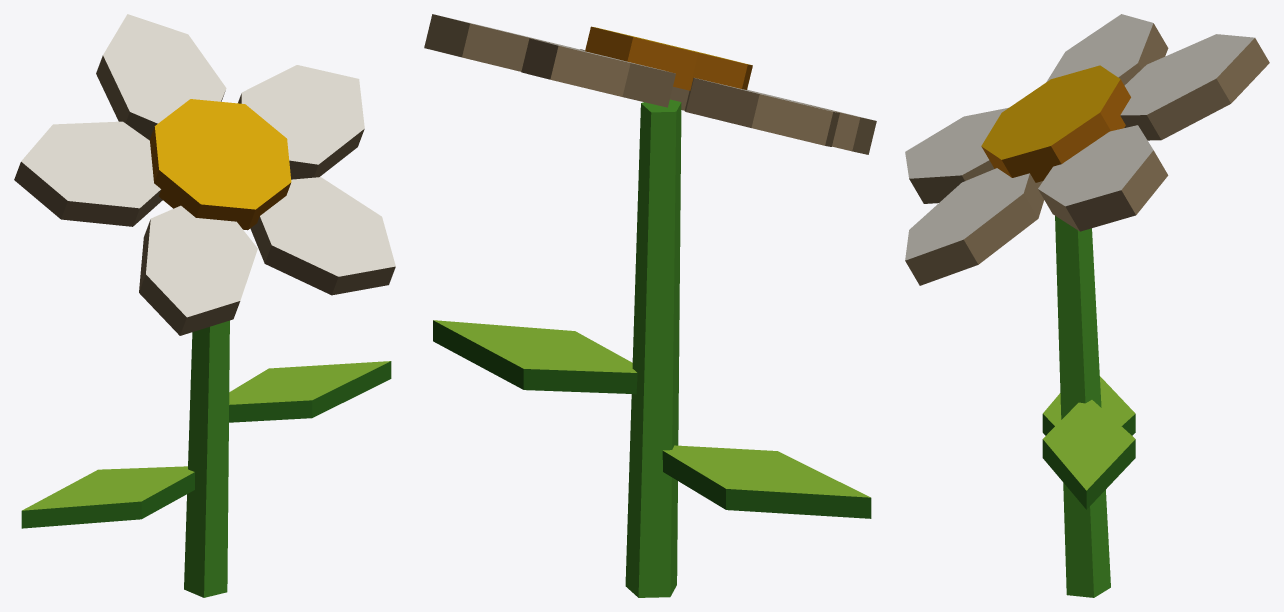
Rendered from flower_basic.fbx.
The picture shows the model from 3 angles, left to right: view 1: azimuth 30°, elevation 25°; view 2: azimuth 150°, elevation 25°; view 3: azimuth 270°, elevation 25°; orthographic projection. The views are drawn at different scales.
Parts seen in each view (by area): view 1: flower_basic; view 2: flower_basic; view 3: flower_basic.
Boxes of the visible parts, box(x1,y1,x2,y2) form: flower_basic: box(14, 14, 395, 597); flower_basic: box(424, 14, 876, 597); flower_basic: box(905, 14, 1269, 597).
Bounding box in the file's own units: 0.26 × 0.347 × 0.2081.
